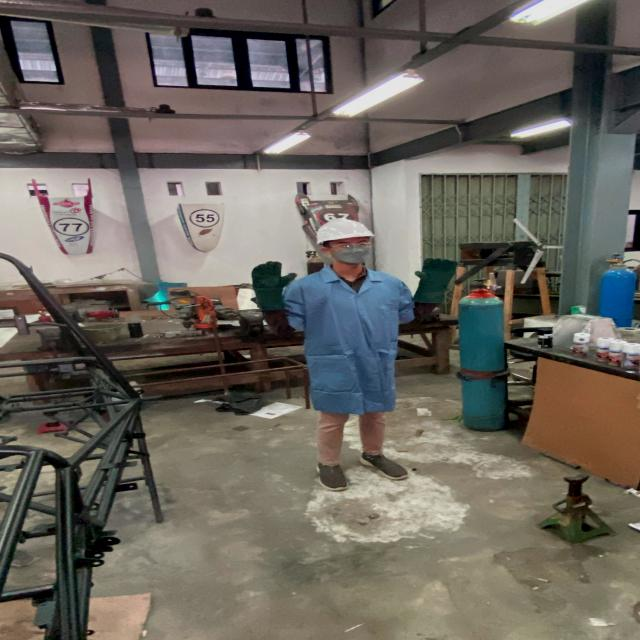face_mask: (330, 238, 378, 266)
glasses: (323, 240, 375, 252)
hand_glove: (246, 259, 300, 296), (412, 256, 466, 291)
head_helmet: (310, 217, 380, 244)
person: (244, 216, 472, 506)
shoes: (354, 448, 414, 486), (309, 450, 354, 495)
